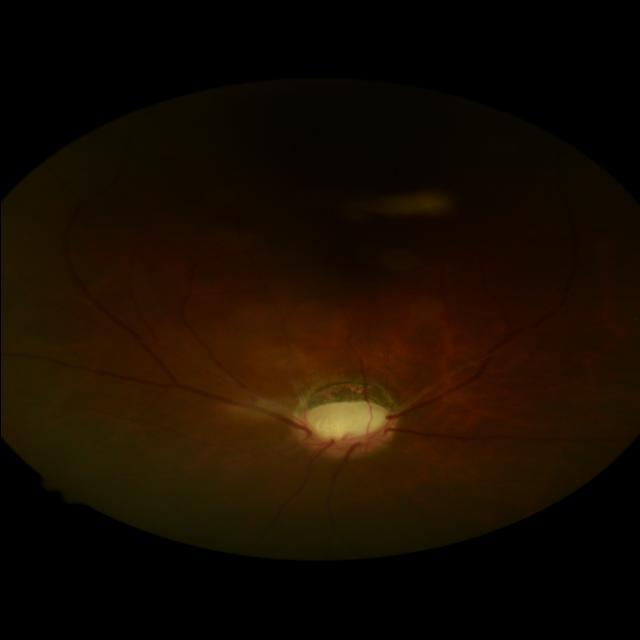cup: (306, 402, 384, 442)
disk: (291, 400, 399, 460)
